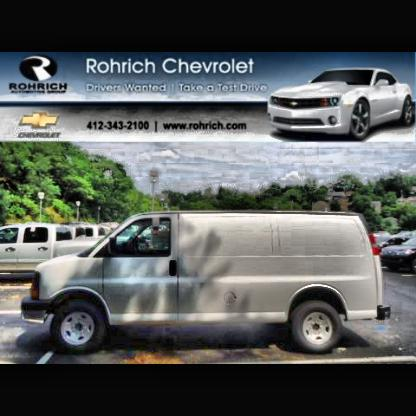Chevrolet Express Van 2007: (20, 209, 394, 360)
